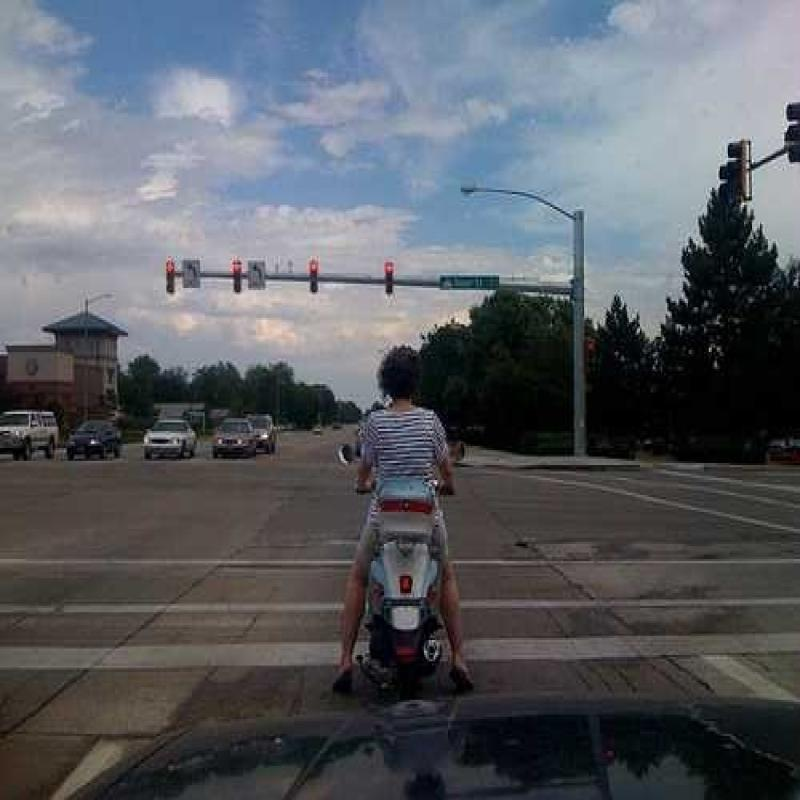bike: (366, 461, 448, 672)
